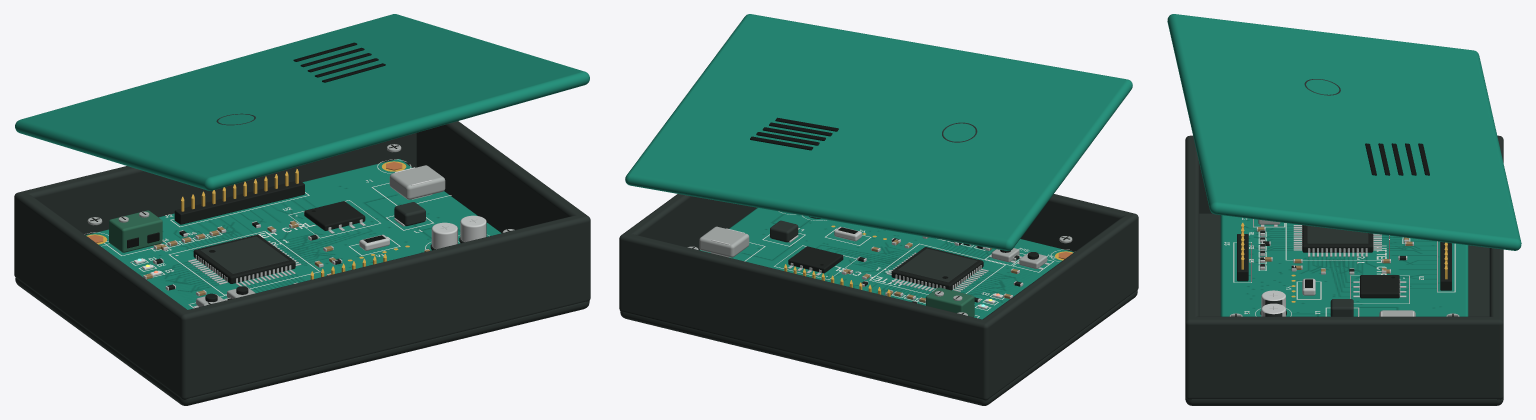
File: service-electronics.glb
3 views of the same model, side by side, from view 1: azimuth 30°, elevation 25°; view 2: azimuth 150°, elevation 25°; view 3: azimuth 270°, elevation 25° (orthographic). The views are drawn at different scales.
Parts seen in each view (by area): view 1: tray, lid, board, qfp-body, header-12, terminal-2, silk, usb, electrolytic (×2), soic-body, inductor; view 2: lid, tray, board, qfp-body, silk, usb, terminal-2, soic-body, inductor; view 3: lid, tray, board, qfp-body, silk, soic-body, header-12, header-8, inductor, electrolytic.
Part boxes in pixels (left/top/right/bottom): tray: left=14, top=121, right=590, bottom=405; lid: left=15, top=14, right=589, bottom=190; board: left=86, top=159, right=501, bottom=309; qfp-body: left=193, top=234, right=295, bottom=283; header-12: left=174, top=180, right=304, bottom=224; terminal-2: left=109, top=210, right=162, bottom=252; silk: left=84, top=159, right=489, bottom=308; usb: left=389, top=165, right=445, bottom=199; electrolytic (×2): left=430, top=215, right=486, bottom=250; soic-body: left=304, top=201, right=365, bottom=230; inductor: left=394, top=202, right=426, bottom=226; lid: left=625, top=14, right=1132, bottom=250; tray: left=619, top=194, right=1138, bottom=405; board: left=699, top=208, right=1073, bottom=319; qfp-body: left=891, top=247, right=983, bottom=290; silk: left=744, top=211, right=1069, bottom=318; usb: left=699, top=226, right=749, bottom=257; terminal-2: left=926, top=287, right=974, bottom=317; soic-body: left=788, top=246, right=843, bottom=273; inductor: left=769, top=220, right=798, bottom=242; lid: left=1167, top=14, right=1521, bottom=250; tray: left=1185, top=135, right=1503, bottom=405; board: left=1220, top=215, right=1468, bottom=316; qfp-body: left=1302, top=225, right=1373, bottom=252; silk: left=1224, top=218, right=1455, bottom=316; soic-body: left=1360, top=275, right=1399, bottom=298; header-12: left=1440, top=242, right=1451, bottom=290; header-8: left=1237, top=234, right=1248, bottom=281; inductor: left=1330, top=299, right=1353, bottom=316; electrolytic: left=1260, top=290, right=1286, bottom=315.
Size of the model in its own units: 10.64 by 5.4 by 8.
Materials: 18 (2 with a texture image).
